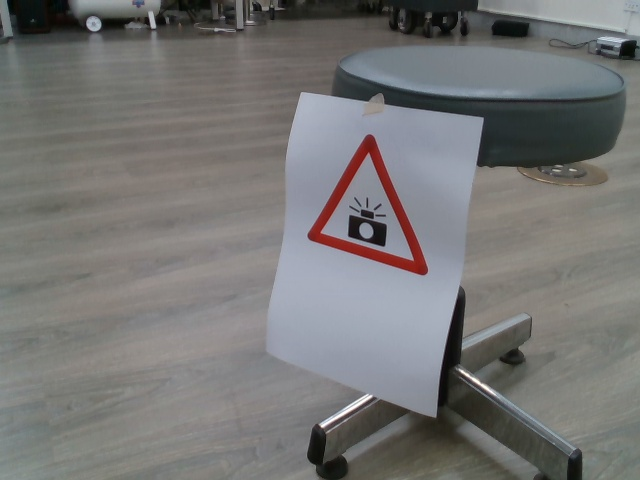camera: (306, 133, 431, 281)
